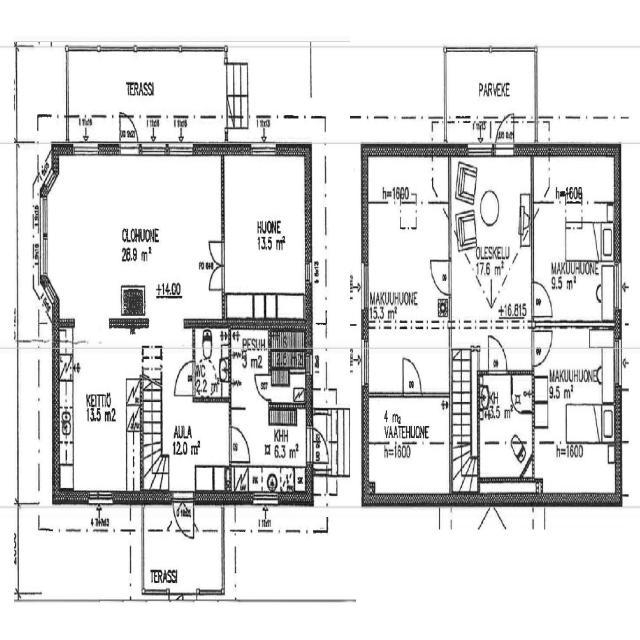door: (205, 231, 226, 293), (171, 492, 195, 540), (428, 255, 452, 298), (530, 277, 554, 319), (494, 109, 516, 154), (486, 332, 509, 374), (228, 422, 251, 464), (72, 122, 100, 156), (118, 111, 141, 152), (531, 328, 553, 369), (401, 354, 423, 394), (173, 356, 194, 397), (310, 426, 330, 465), (253, 370, 272, 402)
window: (37, 188, 52, 284), (35, 295, 53, 344), (71, 136, 101, 160), (165, 139, 196, 160), (613, 258, 624, 314), (249, 139, 278, 159), (613, 339, 624, 391), (359, 258, 369, 314), (466, 140, 495, 159), (89, 486, 115, 507), (360, 335, 370, 388), (251, 490, 280, 508), (140, 140, 168, 158), (172, 587, 199, 605), (302, 254, 313, 285)
zone: (52, 152, 220, 328), (364, 153, 450, 395), (449, 150, 533, 328), (531, 158, 617, 328), (56, 329, 142, 496), (222, 153, 309, 316), (532, 329, 617, 492), (363, 395, 452, 500), (142, 397, 231, 493), (230, 398, 310, 498), (477, 372, 533, 491), (448, 51, 534, 123), (534, 155, 617, 222), (271, 316, 310, 396), (193, 325, 230, 398)
